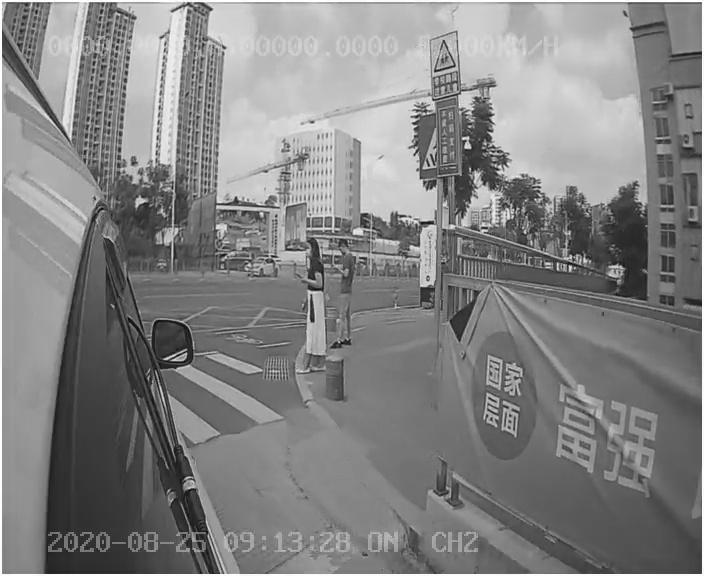person: (285, 234, 334, 376)
